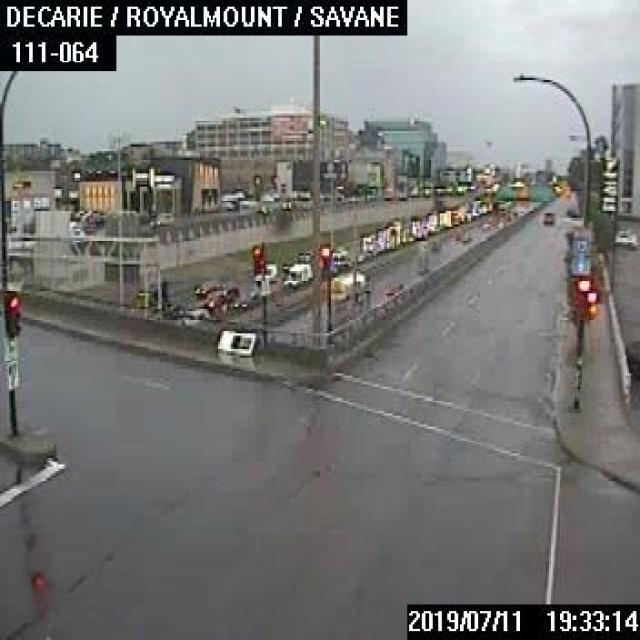vehicle: (318, 269, 366, 302), (280, 260, 311, 288), (201, 285, 240, 307)
